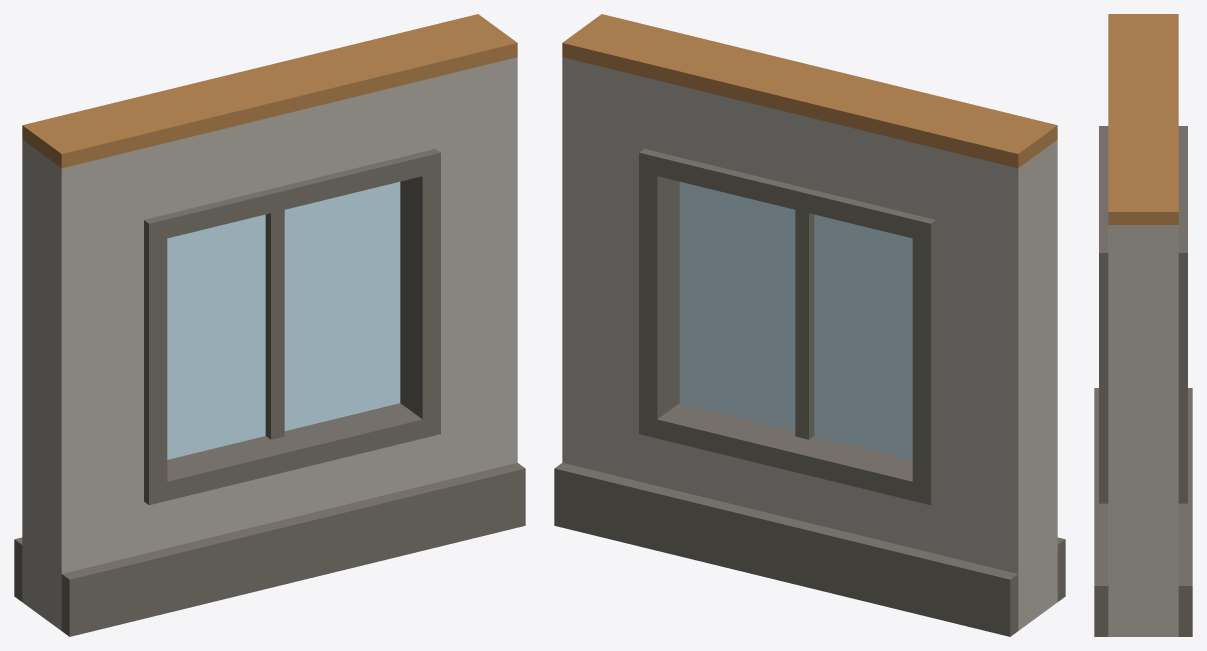
Rendered from wall-window.glb.
3 views of the same model, side by side, from view 1: azimuth 30°, elevation 25°; view 2: azimuth 150°, elevation 25°; view 3: azimuth 270°, elevation 25° (orthographic). The views are drawn at different scales.
Parts seen in each view (by area): view 1: wall-window; view 2: wall-window; view 3: wall-window.
Boxes of the visible parts, x1,y1,x2,y2 form: wall-window: [14, 14, 525, 636]; wall-window: [554, 14, 1065, 636]; wall-window: [1094, 14, 1192, 636].
Size of the model in its own units: 1 by 1 by 0.21.
1 material, 1 textured.
